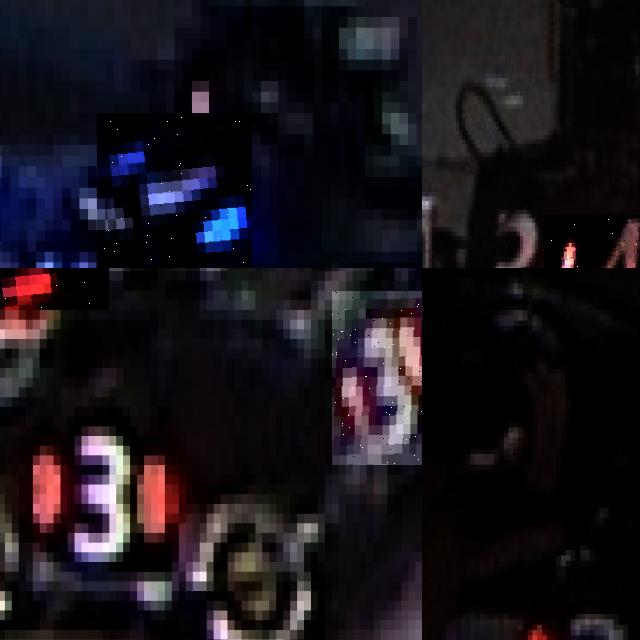B4: (96, 113, 252, 268)
R3: (19, 417, 179, 552), (331, 290, 422, 465), (491, 606, 640, 640), (0, 268, 109, 310)
R4: (544, 213, 640, 268)
